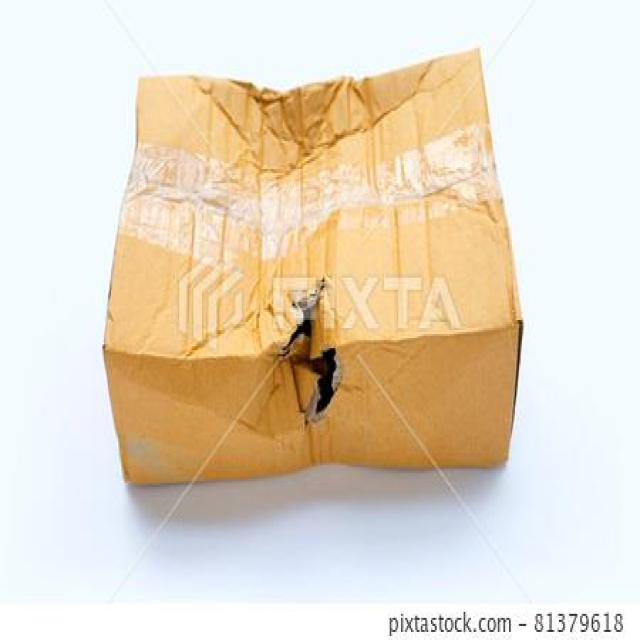Garbage: (98, 41, 532, 492)
